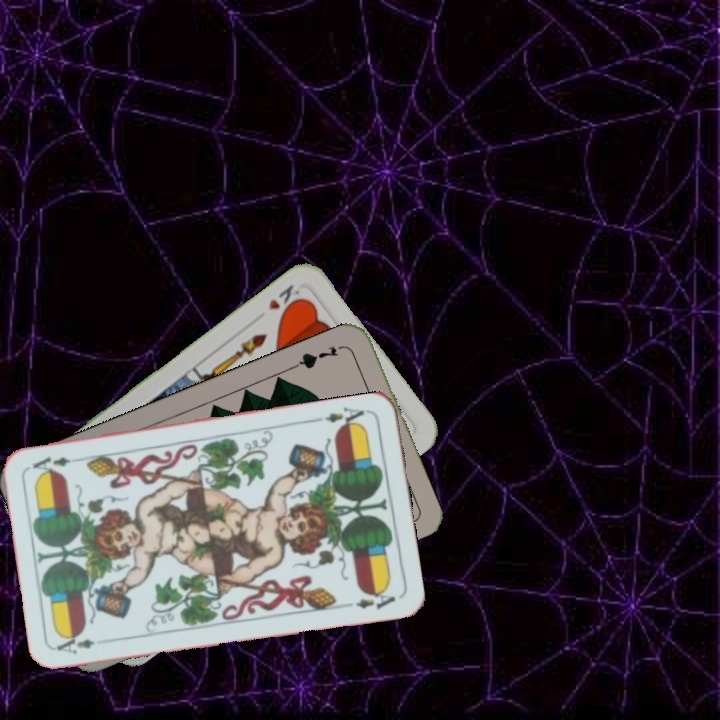EA: (313, 403, 372, 432), (53, 630, 98, 658)
G7: (290, 342, 341, 372)
HK: (264, 280, 305, 318)
